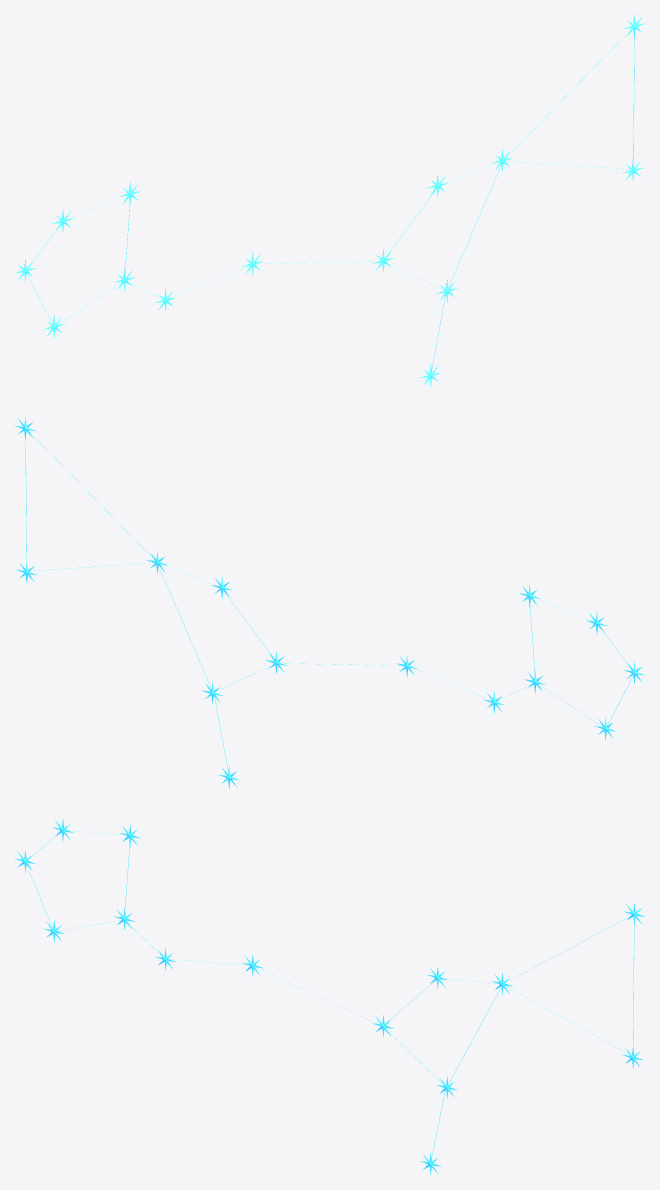
File: Constelation_Model_Story5.fbx
3 renders of one model, top to bottom at view 1: azimuth 30°, elevation 25°; view 2: azimuth 150°, elevation 25°; view 3: azimuth 330°, elevation 25°, orthographic.
Visible parts, largest first — view 1: Plane001; view 2: Plane001; view 3: Plane001.
Boxes of the visible parts, x1,y1,x2,y2 form: Plane001: (14,14,645,387); Plane001: (14,416,645,789); Plane001: (14,818,645,1175).
Bounding box in the file's own units: 1250 × 611 × 5.73.
